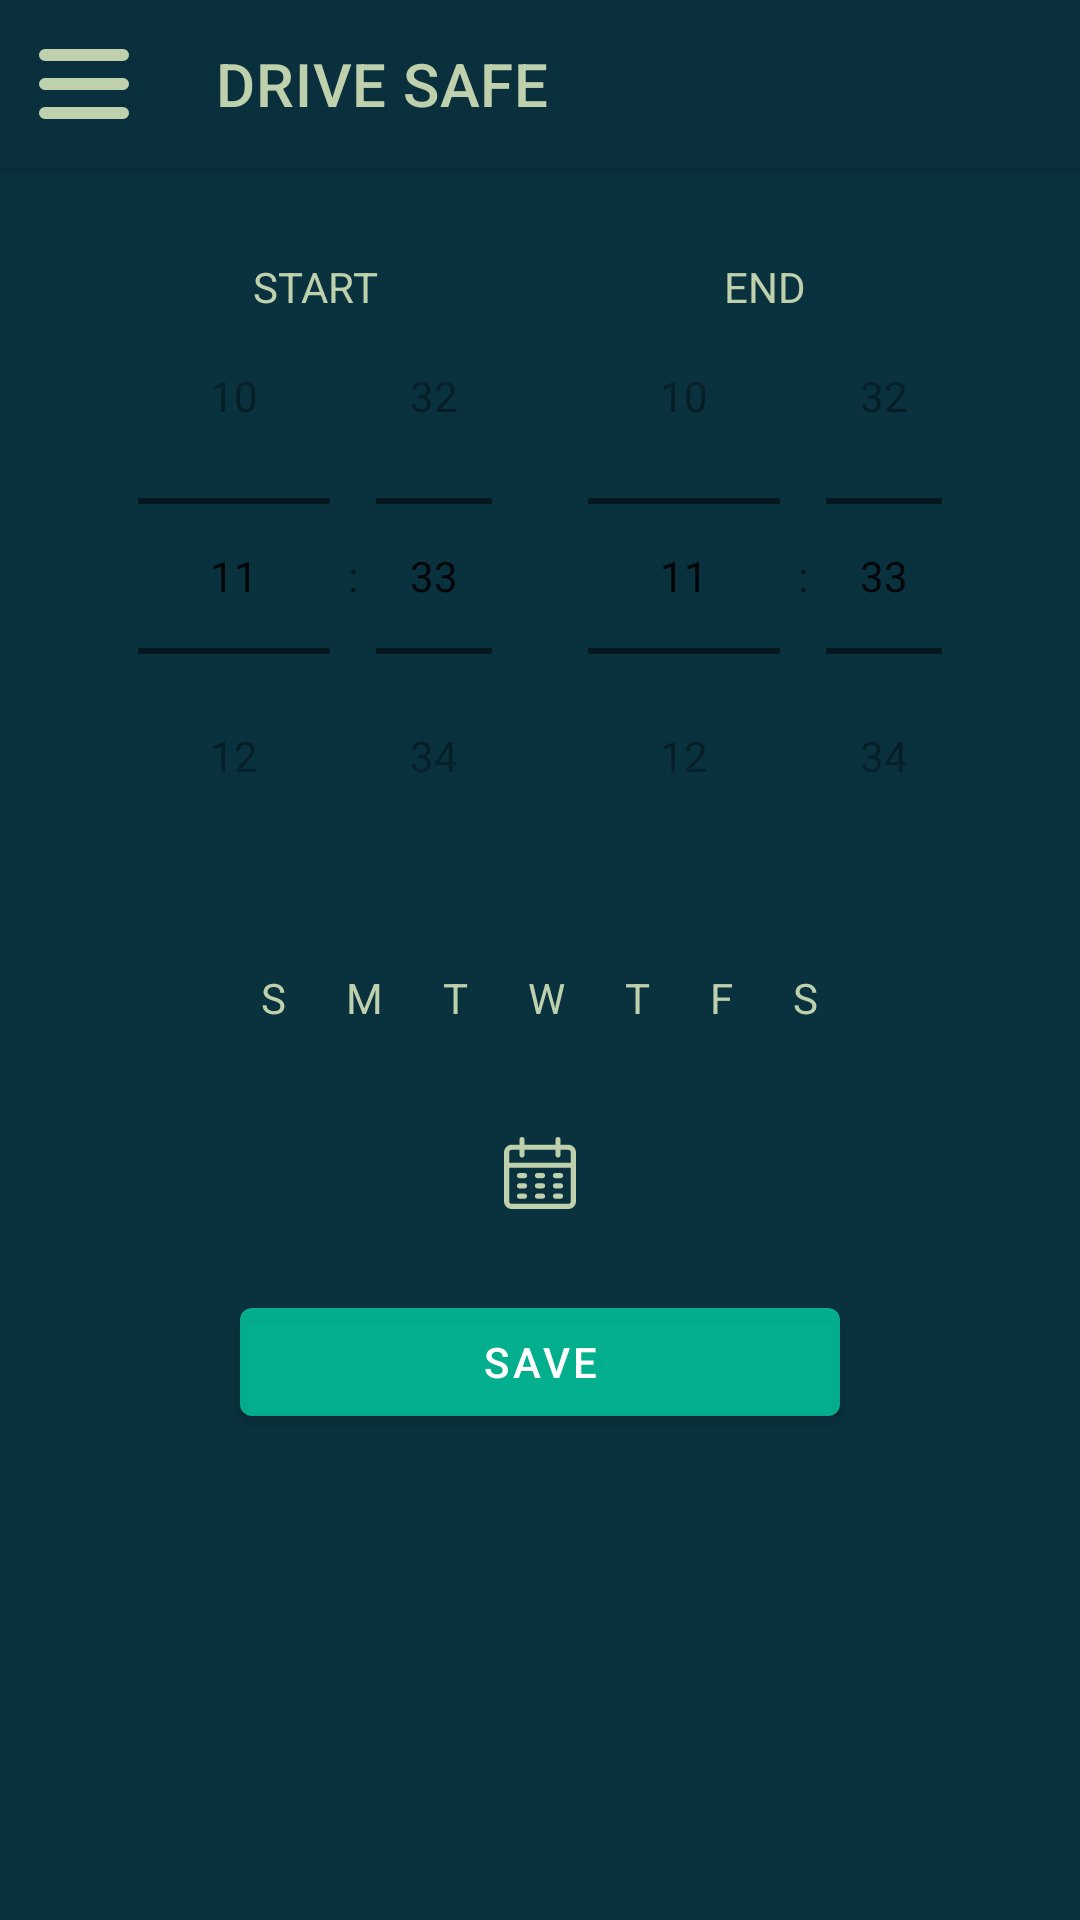

Locate icon controls on the screen. Image size 1080 × 1920, boxes as bbox(x1, y1, x2, y2).
calender: bbox(504, 1137, 576, 1209)
